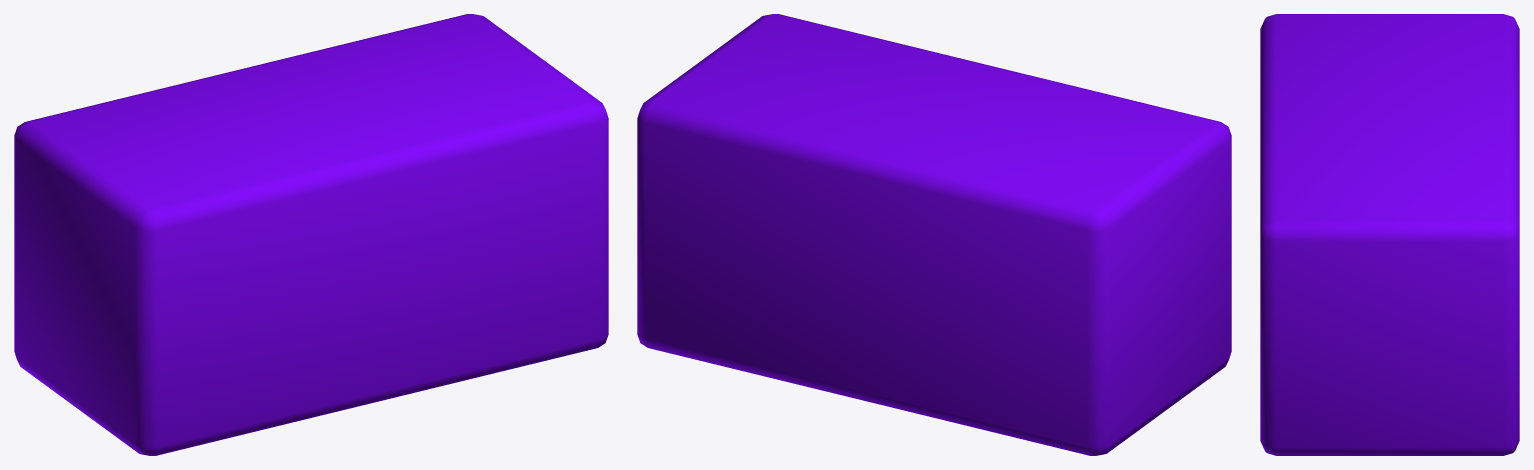
Rendered from Block_02.fbx.
3 views of the same model, side by side, from view 1: azimuth 30°, elevation 25°; view 2: azimuth 150°, elevation 25°; view 3: azimuth 270°, elevation 25° (orthographic). The views are drawn at different scales.
Parts seen in each view (by area): view 1: Obstacle_Block_02; view 2: Obstacle_Block_02; view 3: Obstacle_Block_02.
Part boxes in pixels (box(x1,y1,x2,y2)): Obstacle_Block_02: box(14, 14, 608, 455); Obstacle_Block_02: box(637, 14, 1231, 455); Obstacle_Block_02: box(1260, 14, 1519, 455).
Bounding box in the file's own units: 160 × 80 × 80.
1 material, 1 textured.
